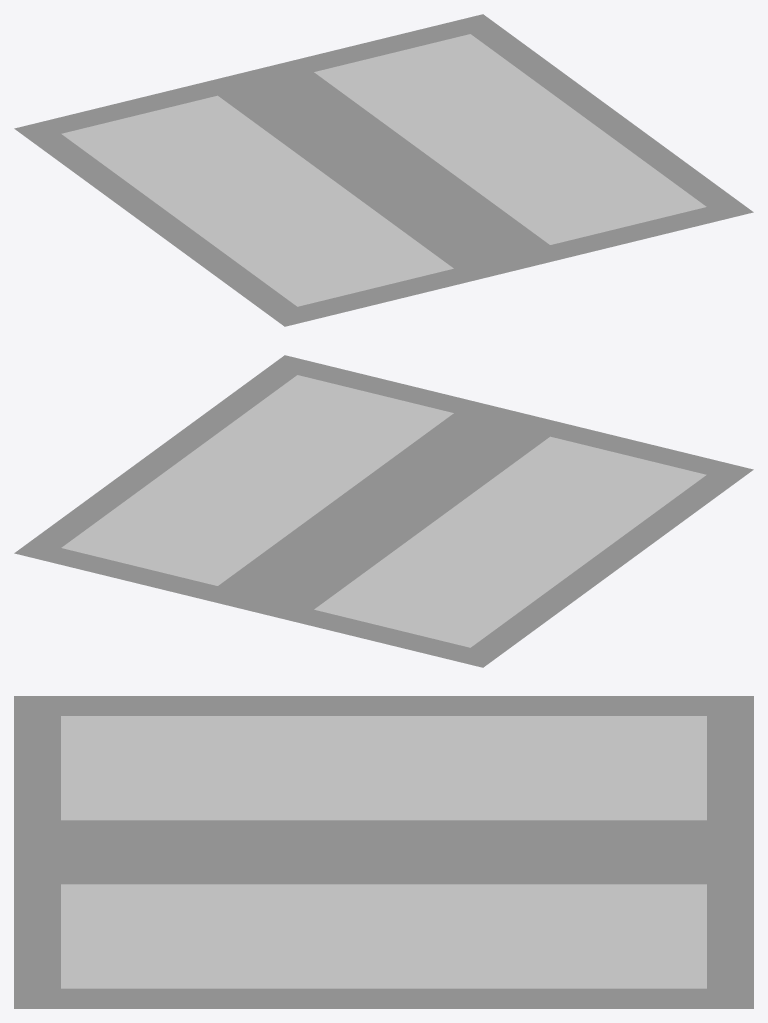
File: tile_for_home_2x2_004.glb
3 views of the same model, one above another, from view 1: azimuth 30°, elevation 25°; view 2: azimuth 150°, elevation 25°; view 3: azimuth 270°, elevation 25° (orthographic). The views are drawn at different scales.
Parts seen in each view (by area): view 1: tile_for_home_2x2_004; view 2: tile_for_home_2x2_004; view 3: tile_for_home_2x2_004.
Part boxes in pixels (x1,y1,x2,y2): tile_for_home_2x2_004: (14, 14, 753, 326); tile_for_home_2x2_004: (14, 355, 753, 667); tile_for_home_2x2_004: (14, 696, 753, 1008).
Size of the model in its own units: 16 by 0.0029 by 16.
1 material, 1 textured.
